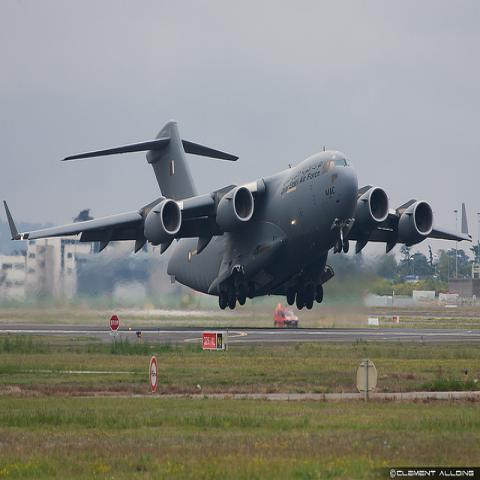car: (273, 304, 299, 329)
